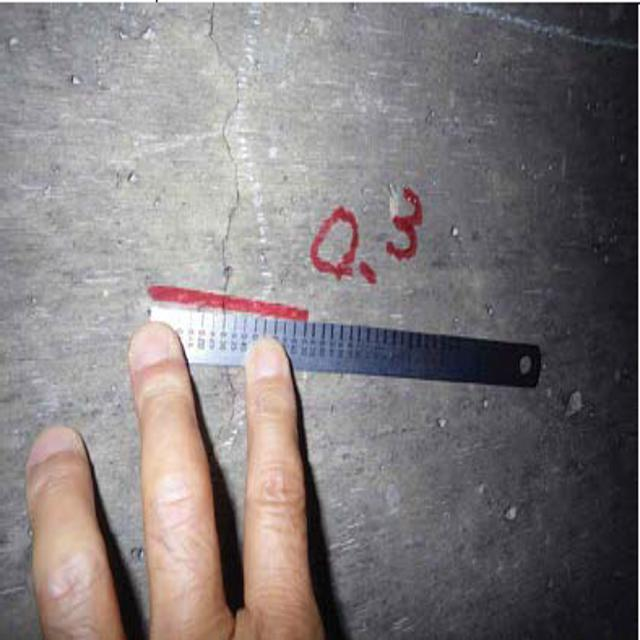crack: (199, 11, 254, 310)
